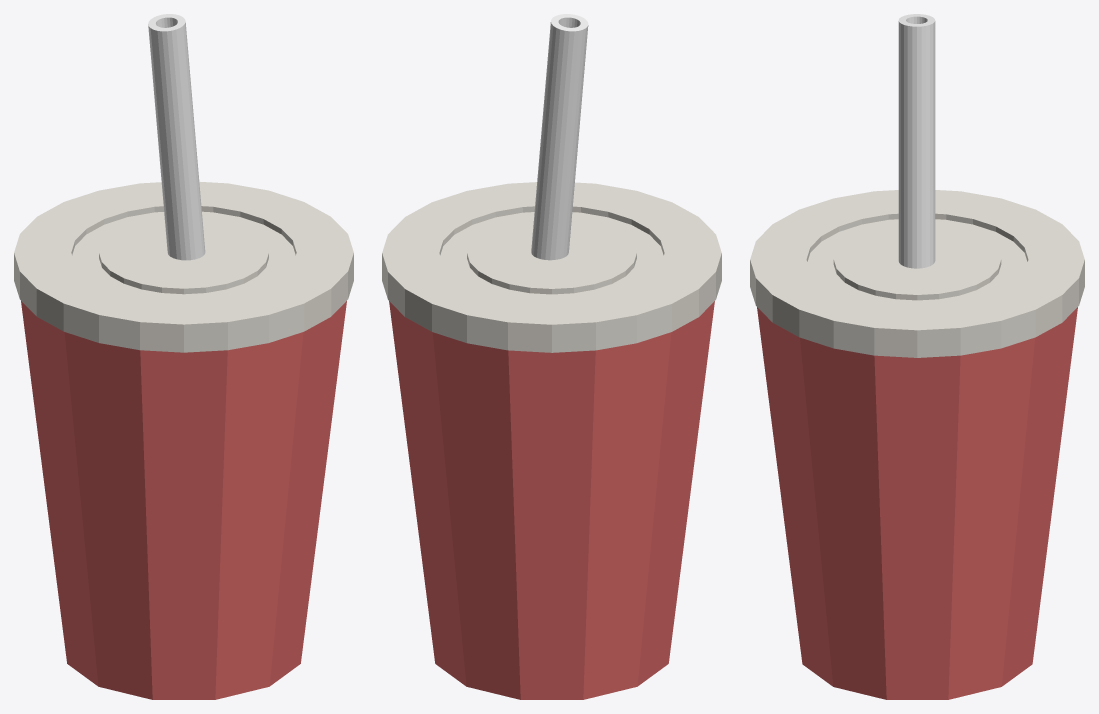
File: Fast Food Cup 1.glb
3 views of the same model, side by side, from view 1: azimuth 30°, elevation 25°; view 2: azimuth 150°, elevation 25°; view 3: azimuth 270°, elevation 25° (orthographic).
Parts seen in each view (by area): view 1: Fast Food Cup 1; view 2: Fast Food Cup 1; view 3: Fast Food Cup 1.
Boxes of the visible parts, bbox=[...] form: Fast Food Cup 1: bbox=[14, 14, 353, 699]; Fast Food Cup 1: bbox=[382, 14, 721, 699]; Fast Food Cup 1: bbox=[750, 14, 1084, 699].
Bounding box in the file's own units: 0.5818 × 1.2 × 0.5818.
